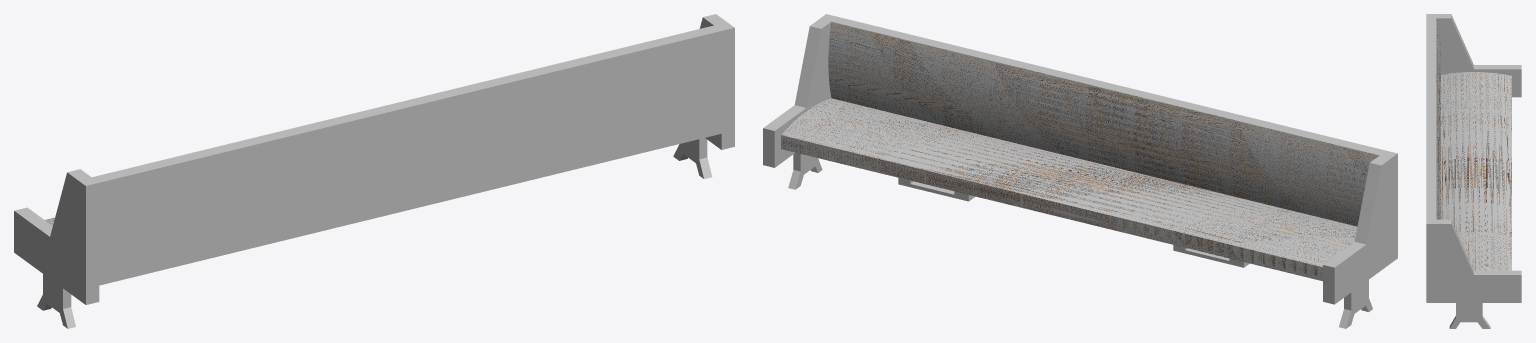
3 renders of one model, left to right at view 1: azimuth 30°, elevation 25°; view 2: azimuth 150°, elevation 25°; view 3: azimuth 270°, elevation 25°, orthographic. The views are drawn at different scales.
Parts seen in each view (by area): view 1: mesh1_mesh1-geometry; view 2: mesh1_mesh1-geometry, mesh2_mesh2-geometry; view 3: mesh1_mesh1-geometry.
Boxes of the visible parts, x1,y1,x2,y2 form: mesh1_mesh1-geometry: (14,14,734,328); mesh1_mesh1-geometry: (763,14,1397,328); mesh2_mesh2-geometry: (1173,245,1249,267); mesh1_mesh1-geometry: (1426,14,1521,328).
Bounding box in the file's own units: 0.9566 × 0.2268 × 0.1831.
